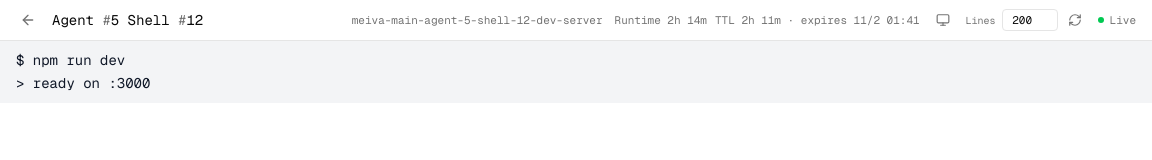
Test: ShellMonitorPage terminal theme › cycles theme system → light → dark → system on click
This screenshot has width=1152, height=160.
Check: the text "$ npm run dev > ready on :3000" is shown, box [16,51,150,92]
Note: system → light
Click the button named "Terminal theme: system" at (943, 20), box [932,9,954,31]
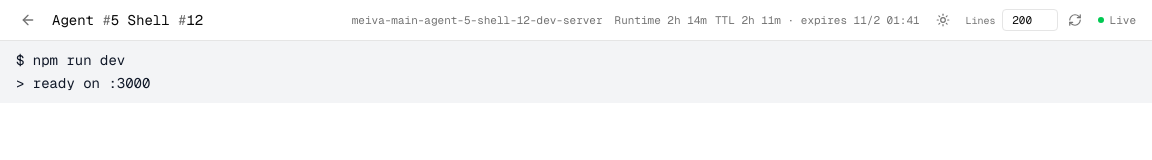
Check: the button named "Terminal theme: light" is shown
Note: light → dark
Click the button named "Terminal theme: light" at (943, 20), box [932,9,954,31]
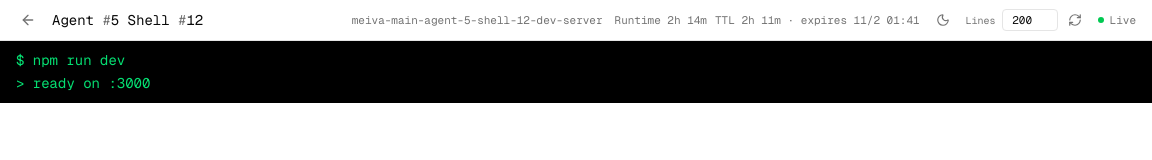
Check: the button named "Terminal theme: dark" is shown
Note: dark → system
Click the button named "Terminal theme: dark" at (943, 20), box [932,9,954,31]
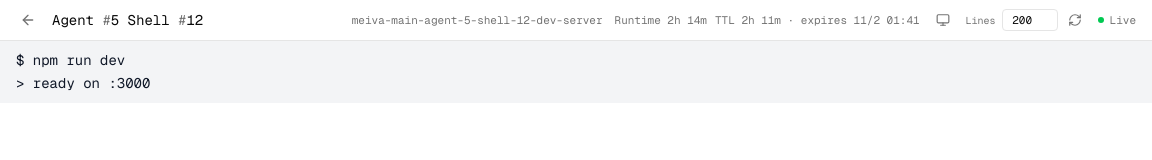
Check: the button named "Terminal theme: system" is shown, box [932,9,954,31]
